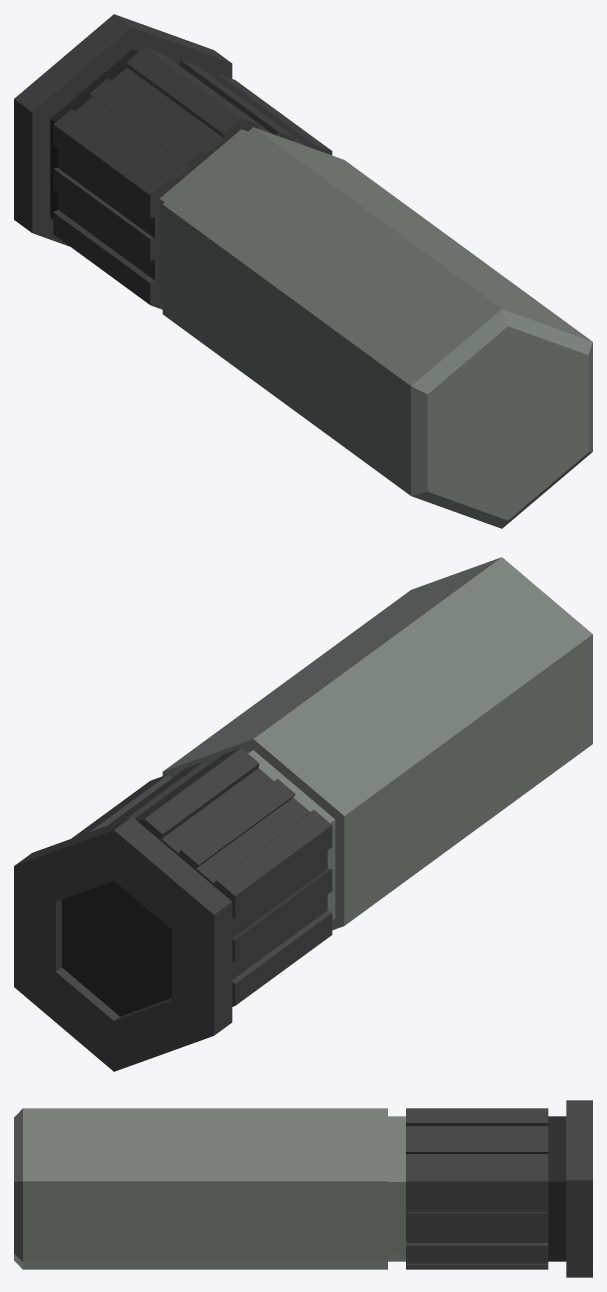
The model's file is Bullet_ShotGun_C.fbx.
3 views of the same model, one above another, from view 1: azimuth 30°, elevation 25°; view 2: azimuth 150°, elevation 25°; view 3: azimuth 270°, elevation 25° (orthographic). The views are drawn at different scales.
Parts seen in each view (by area): view 1: Bullet_ShotGun_C; view 2: Bullet_ShotGun_C; view 3: Bullet_ShotGun_C.
Part boxes in pixels (x1,y1,x2,y2): Bullet_ShotGun_C: [14, 14, 592, 528]; Bullet_ShotGun_C: [14, 557, 592, 1071]; Bullet_ShotGun_C: [14, 1100, 592, 1277].
Bounding box in the file's own units: 0.0238 × 0.0275 × 0.0812.
